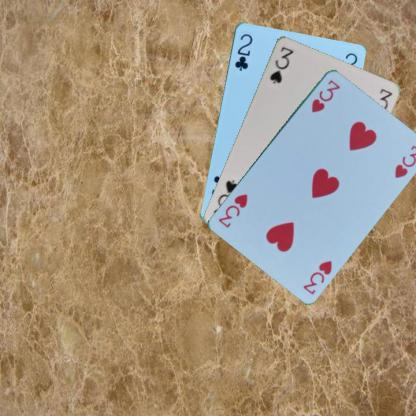2c: (232, 31, 254, 72)
3h: (300, 258, 334, 296), (308, 77, 341, 114)
3s: (267, 43, 295, 85)
